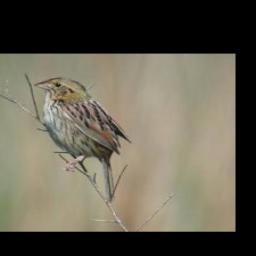Sparrow: (32, 76, 131, 202)
